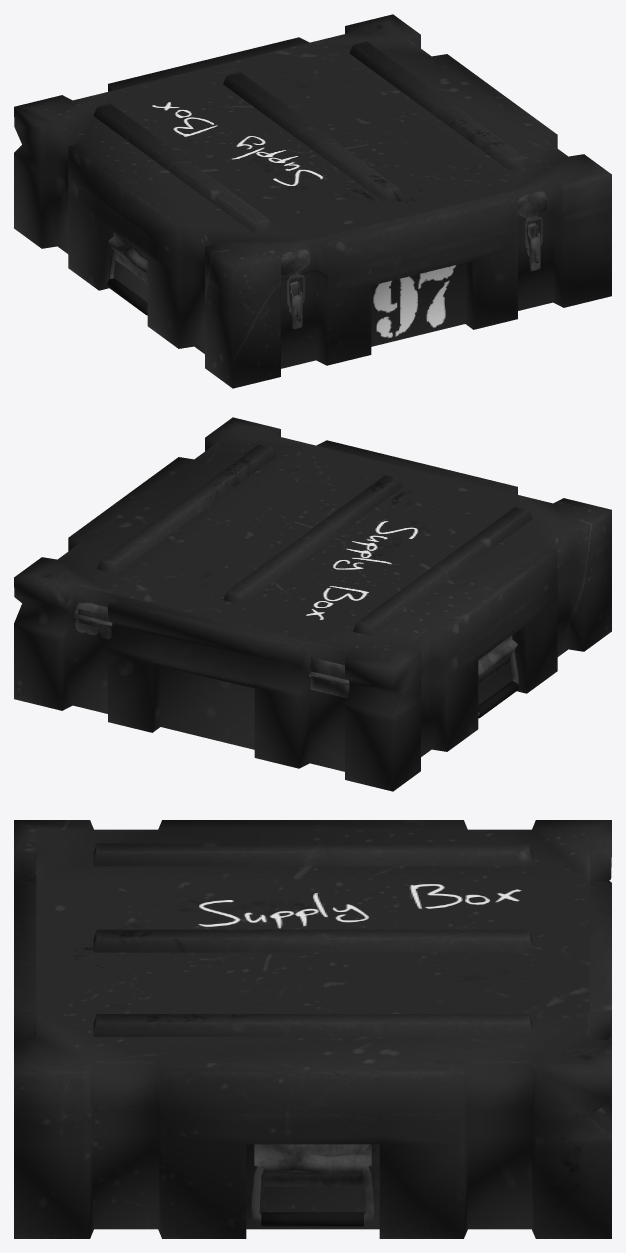
File: SupplyBox.fbx
The picture shows the model from 3 angles, top to bottom: view 1: azimuth 30°, elevation 25°; view 2: azimuth 150°, elevation 25°; view 3: azimuth 270°, elevation 25°; orthographic projection. The views are drawn at different scales.
Visible parts, largest first — view 1: SupplyBox; view 2: SupplyBox; view 3: SupplyBox.
Part boxes in pixels (x1,y1,x2,y2): SupplyBox: (14,14,611,388); SupplyBox: (14,417,611,791); SupplyBox: (14,820,611,1238).
Size of the model in its own units: 85.42 by 28.1 by 85.42.
1 material, 1 textured.
